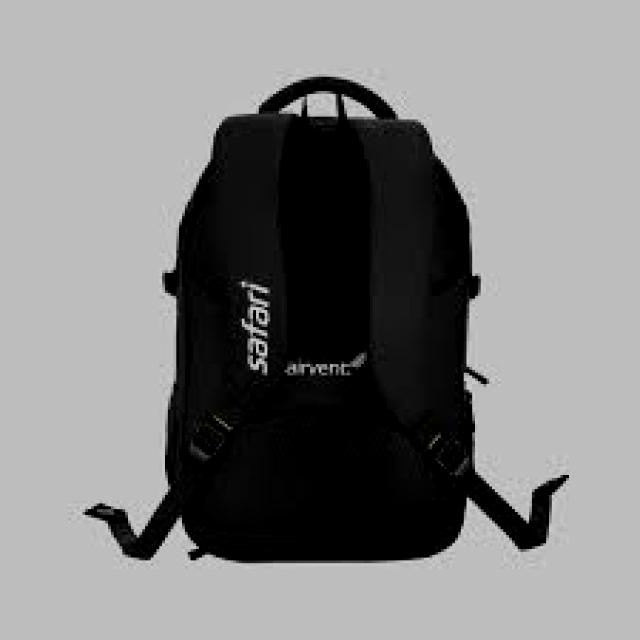backpack: (84, 75, 568, 564)
